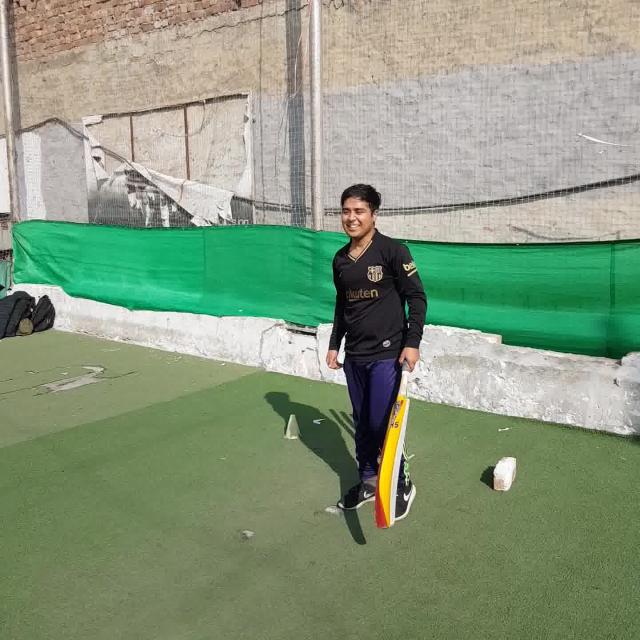bat: (375, 357, 411, 528)
